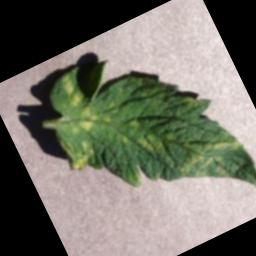Leaf_Mold: (62, 138, 98, 173), (57, 71, 85, 107), (71, 103, 101, 134)
